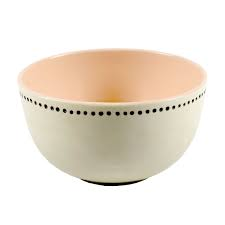bowl: (15, 45, 211, 190)
